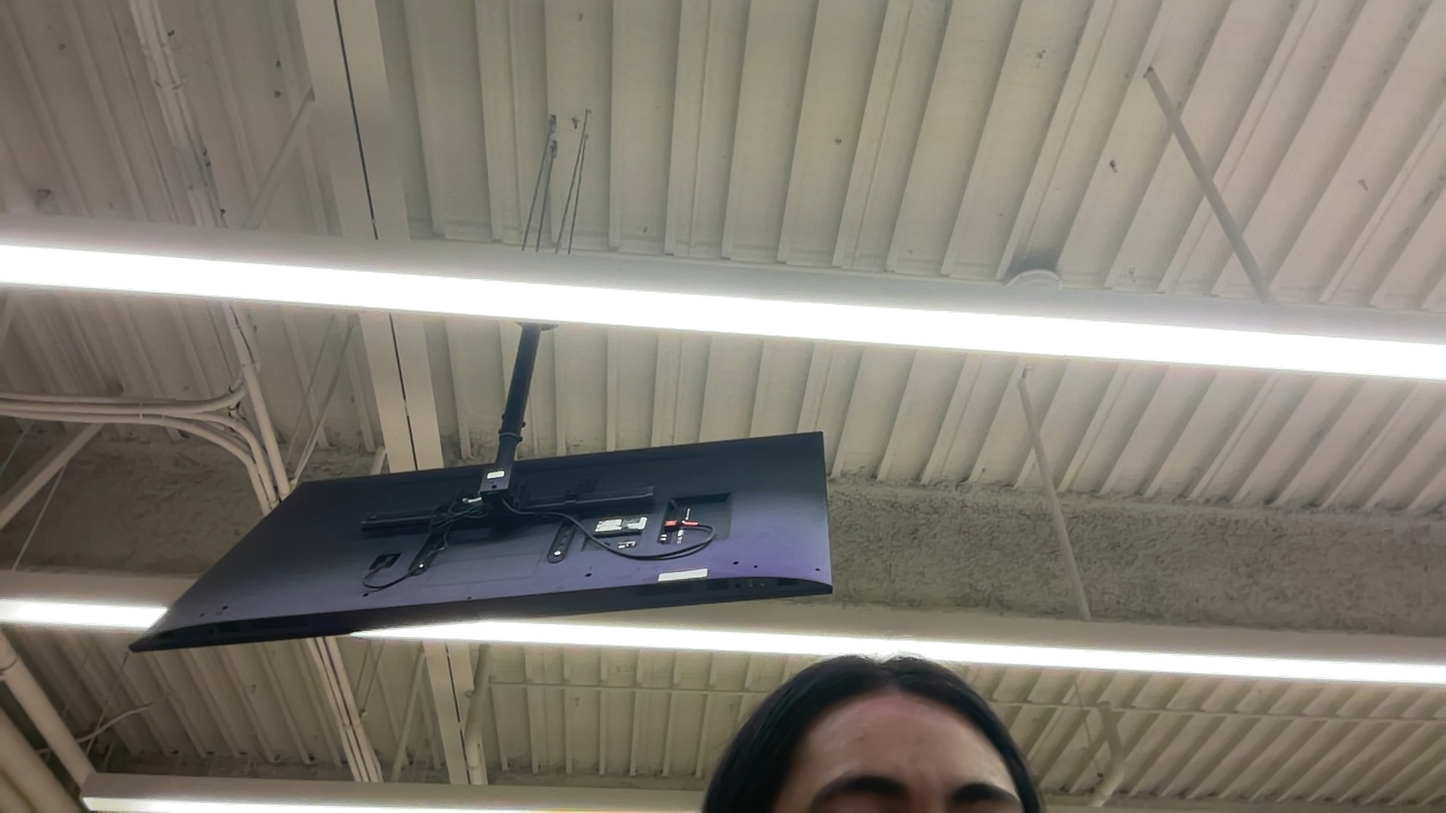Plastic: (4, 400, 278, 610)
